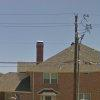Chimney: (28, 36, 44, 62)
